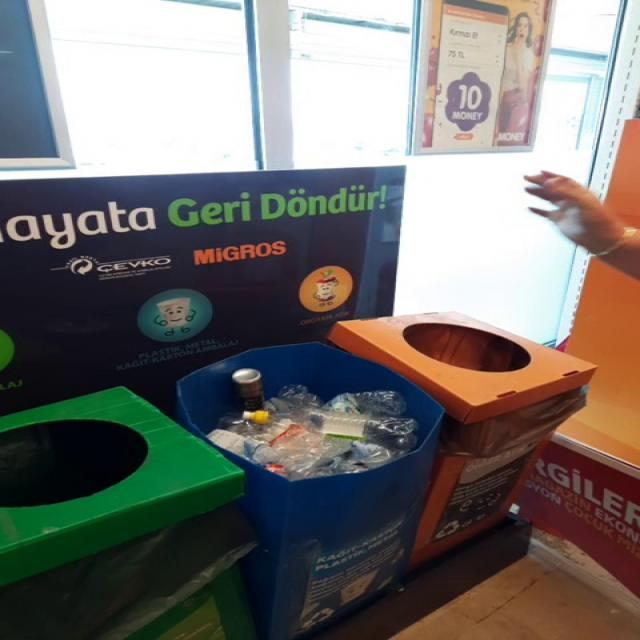bin: (179, 313, 597, 640), (1, 388, 256, 640)
metal: (232, 369, 261, 385)
